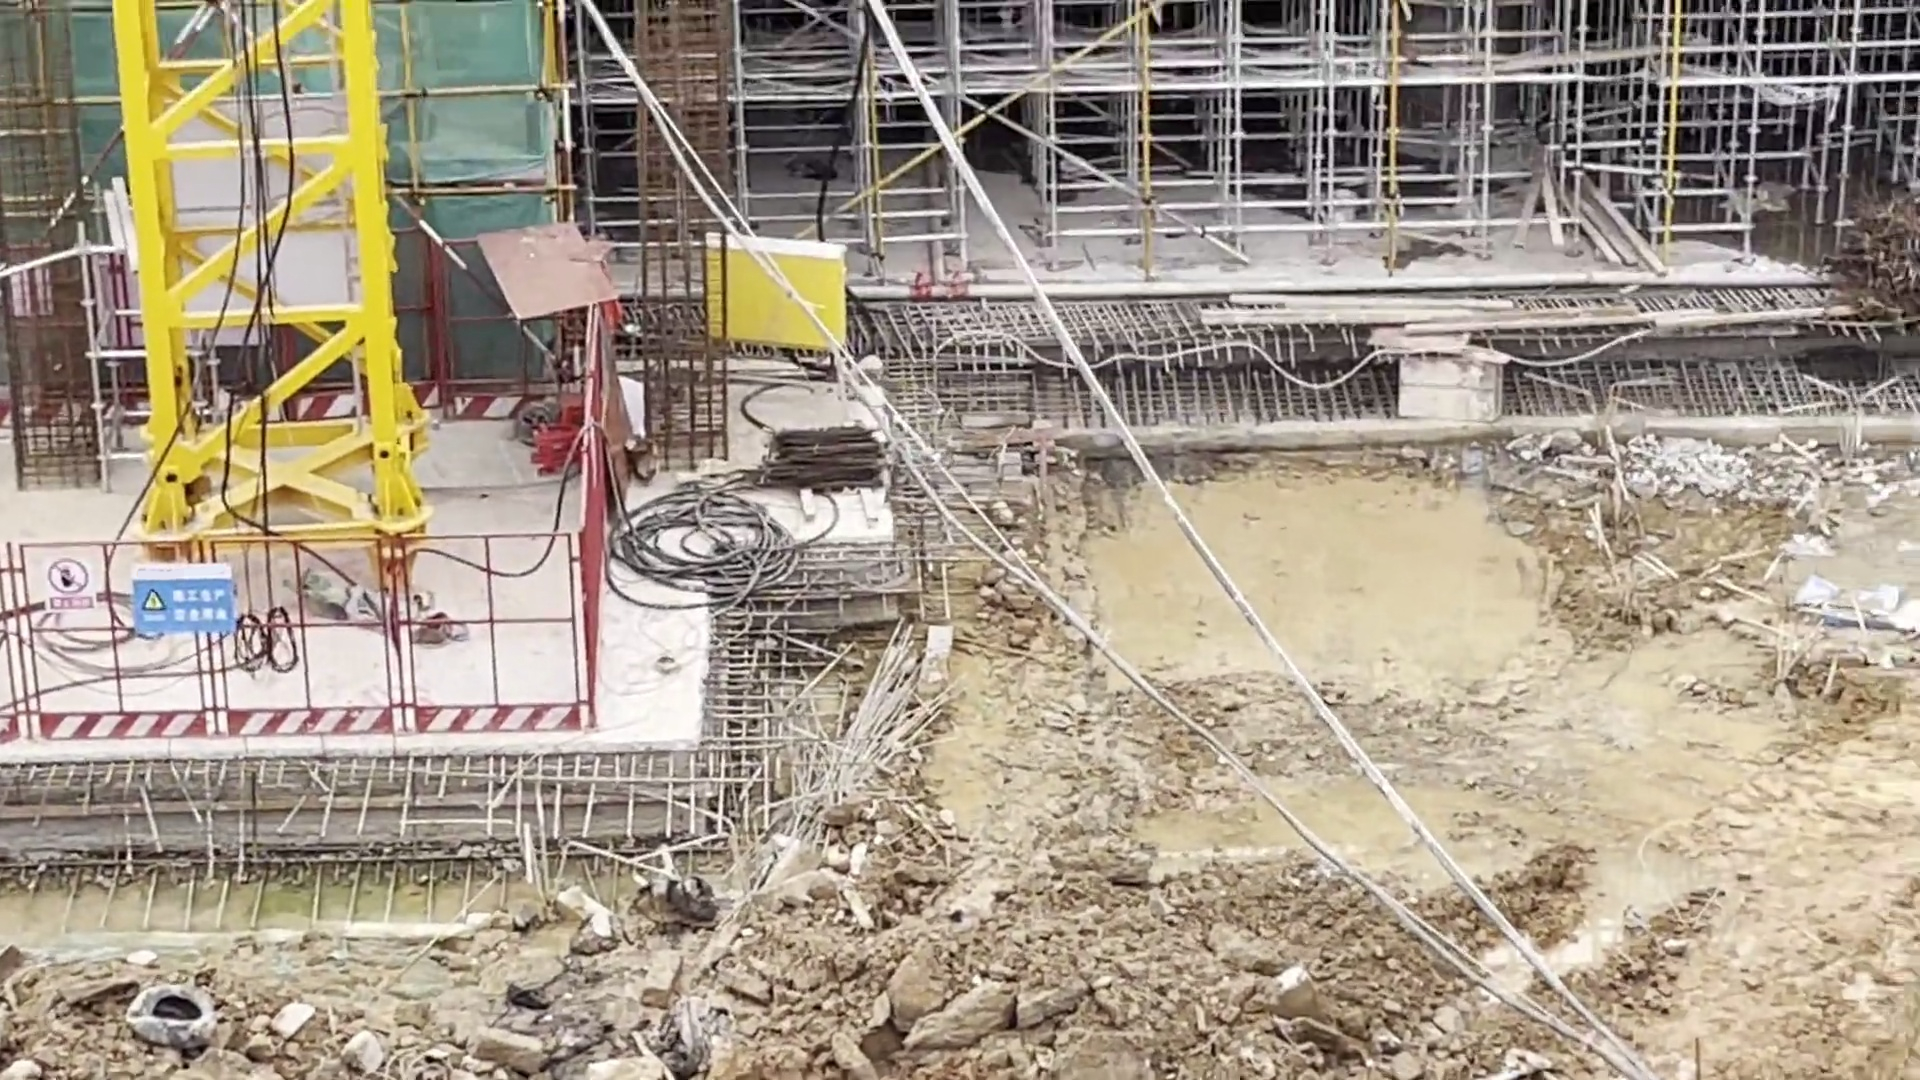ebox: (713, 236, 847, 359)
fence: (11, 535, 576, 727), (576, 393, 608, 719)
slogan: (135, 564, 231, 632), (44, 558, 99, 607)
